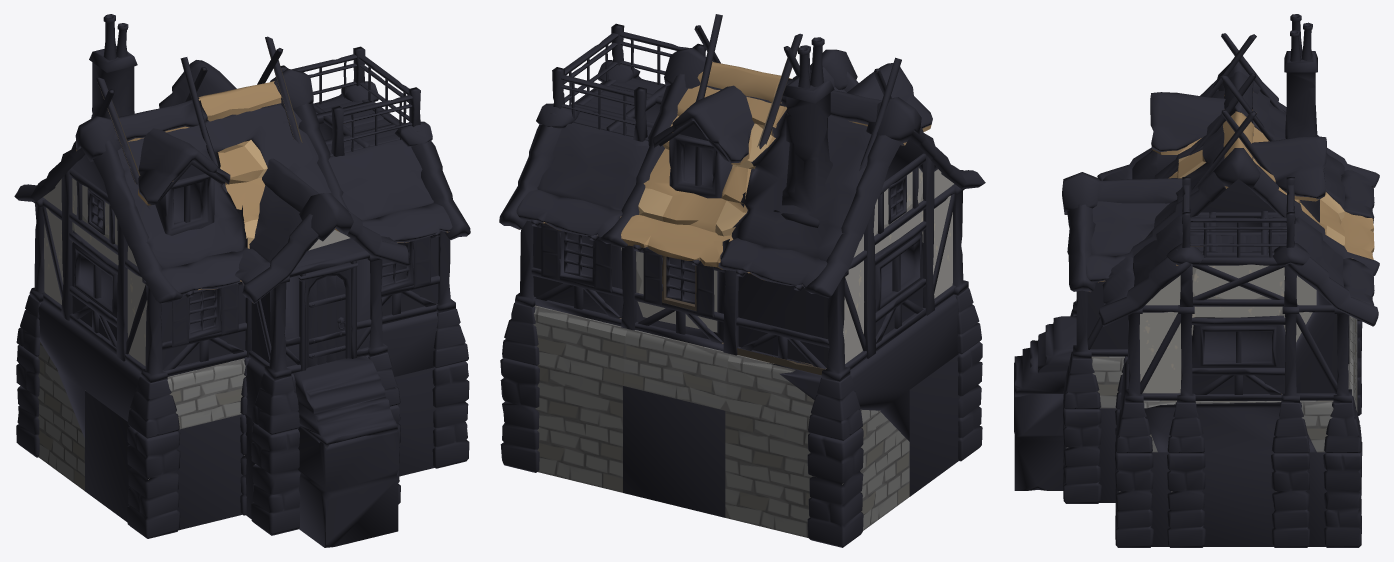
File: SM_Bld_Preset_House_09_B_Optimized.fbx
3 renders of one model, left to right at view 1: azimuth 30°, elevation 25°; view 2: azimuth 150°, elevation 25°; view 3: azimuth 270°, elevation 25°, orthographic. The views are drawn at different scales.
Parts seen in each view (by area): view 1: SM_Bld_Preset_House_09_B_Optimized_Outline, SM_Bld_Preset_House_09_B_Optimized; view 2: SM_Bld_Preset_House_09_B_Optimized_Outline, SM_Bld_Preset_House_09_B_Optimized; view 3: SM_Bld_Preset_House_09_B_Optimized_Outline, SM_Bld_Preset_House_09_B_Optimized.
Part boxes in pixels (left/top/right/bottom): SM_Bld_Preset_House_09_B_Optimized_Outline: left=14, top=14, right=470, bottom=547; SM_Bld_Preset_House_09_B_Optimized: left=20, top=49, right=466, bottom=490; SM_Bld_Preset_House_09_B_Optimized_Outline: left=499, top=14, right=985, bottom=547; SM_Bld_Preset_House_09_B_Optimized: left=518, top=28, right=953, bottom=537; SM_Bld_Preset_House_09_B_Optimized_Outline: left=1014, top=14, right=1379, bottom=547; SM_Bld_Preset_House_09_B_Optimized: left=1067, top=95, right=1374, bottom=491.
Bounding box in the file's own units: 847 × 1091 × 878.
